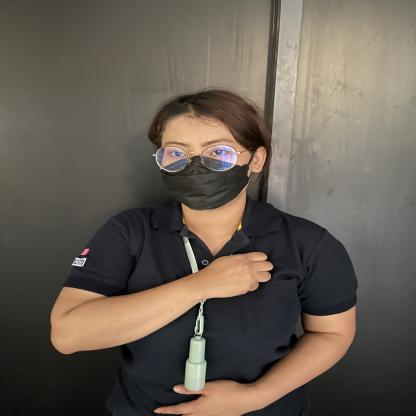Sadness: (136, 221, 295, 306)
